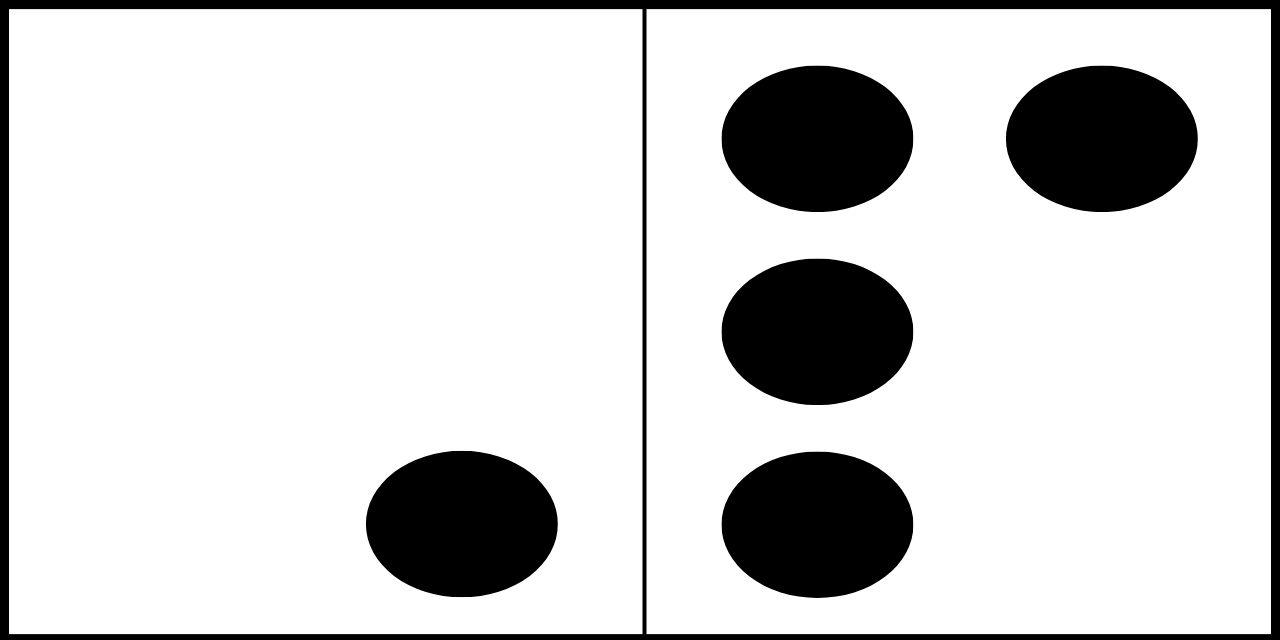P: (720, 62, 1199, 597)
capital: (137, 73, 558, 598)
